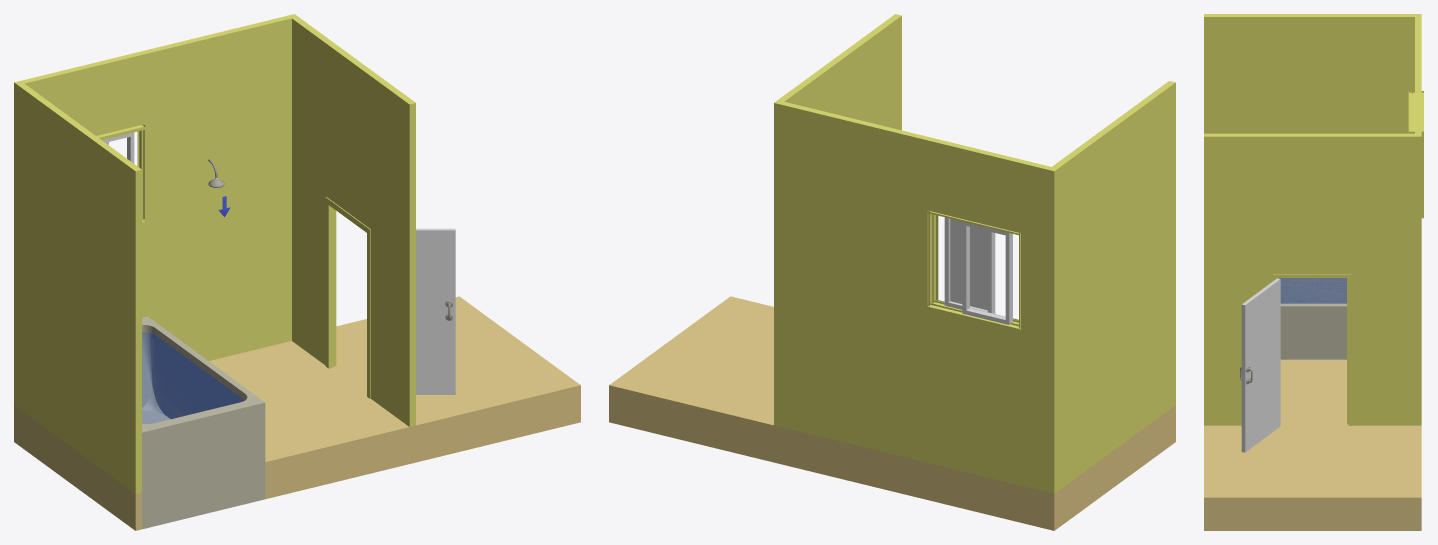
Rendered from Bathroom.glb.
The picture shows the model from 3 angles, left to right: view 1: azimuth 30°, elevation 25°; view 2: azimuth 150°, elevation 25°; view 3: azimuth 270°, elevation 25°; orthographic projection. The views are drawn at different scales.
Visible parts, largest first — view 1: Cube, Cube.001, Cube.004, Cube.002, Door, Cube.003, DoorFrame, WindowFrame; view 2: Cube.001, Cube, Cube.004, Window.R, WindowFrame, Window.L; view 3: Cube, Cube.004, Door, Cube.002, Cube.003, DoorFrame, Cube.001, WindowFrame.
Boxes of the visible parts, box(x1,y1,x2,y2) form: Cube: box(14, 14, 415, 493); Cube.001: box(21, 15, 291, 360); Cube.004: box(14, 296, 580, 530); Cube.002: box(142, 316, 265, 529); Door: box(416, 228, 455, 394); Cube.003: box(142, 332, 244, 423); DoorFrame: box(325, 197, 370, 398); WindowFrame: box(96, 124, 147, 225); Cube.001: box(780, 101, 1050, 492); Cube: box(774, 14, 1175, 493); Cube.004: box(609, 296, 1175, 530); Window.R: box(944, 217, 995, 313); WindowFrame: box(927, 210, 1020, 330); Window.L: box(962, 221, 1012, 324); Cube: box(1204, 14, 1421, 425); Cube.004: box(1204, 359, 1421, 530); Door: box(1241, 278, 1280, 452); Cube.002: box(1279, 278, 1346, 359); Cube.003: box(1279, 278, 1346, 303); DoorFrame: box(1273, 274, 1352, 425); Cube.001: box(1415, 17, 1421, 133); WindowFrame: box(1408, 91, 1423, 218).
Size of the model in its own units: 5.78 by 4.46 by 2.76.
